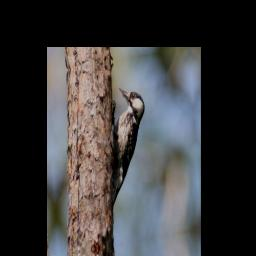Woodpecker: (106, 82, 151, 212)
